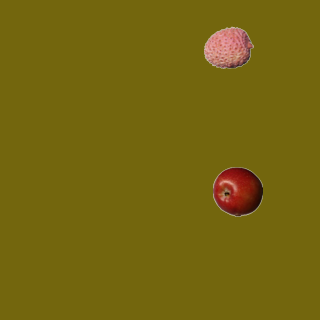Apple Braeburn: (212, 166, 262, 216)
Lychee: (203, 22, 253, 72)
